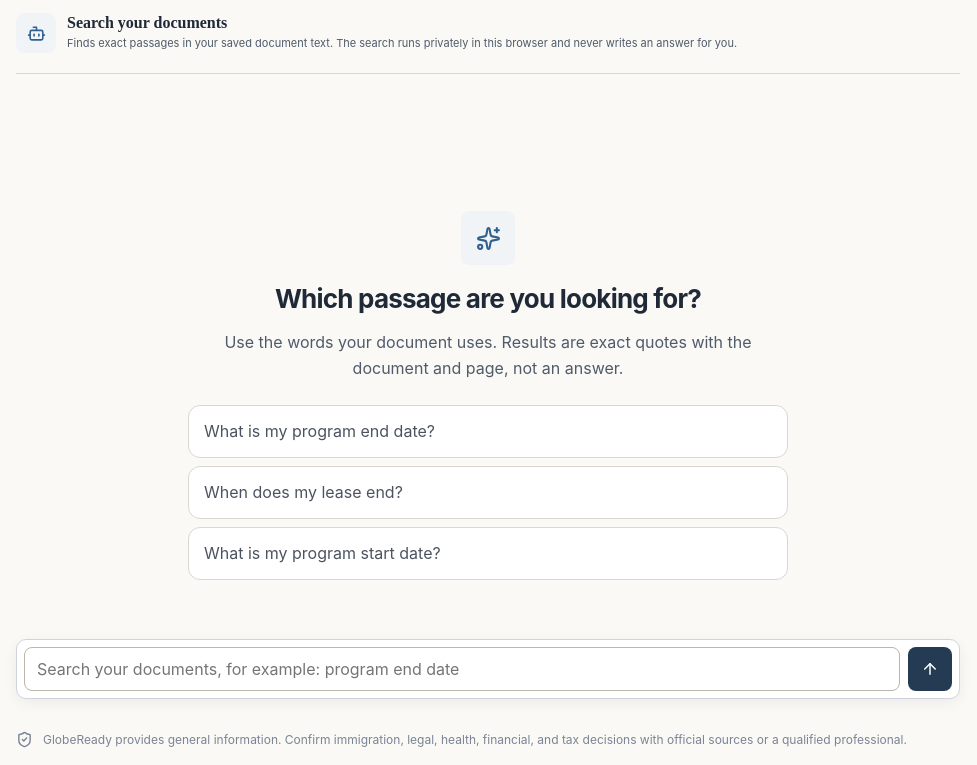
it: document-grounded assistant › shows the official-contact referral with passages for a high-risk question
Type "What is my OPT start date?" into the field named "Ask GlobeReady" at (462, 669), box [24, 647, 900, 691]
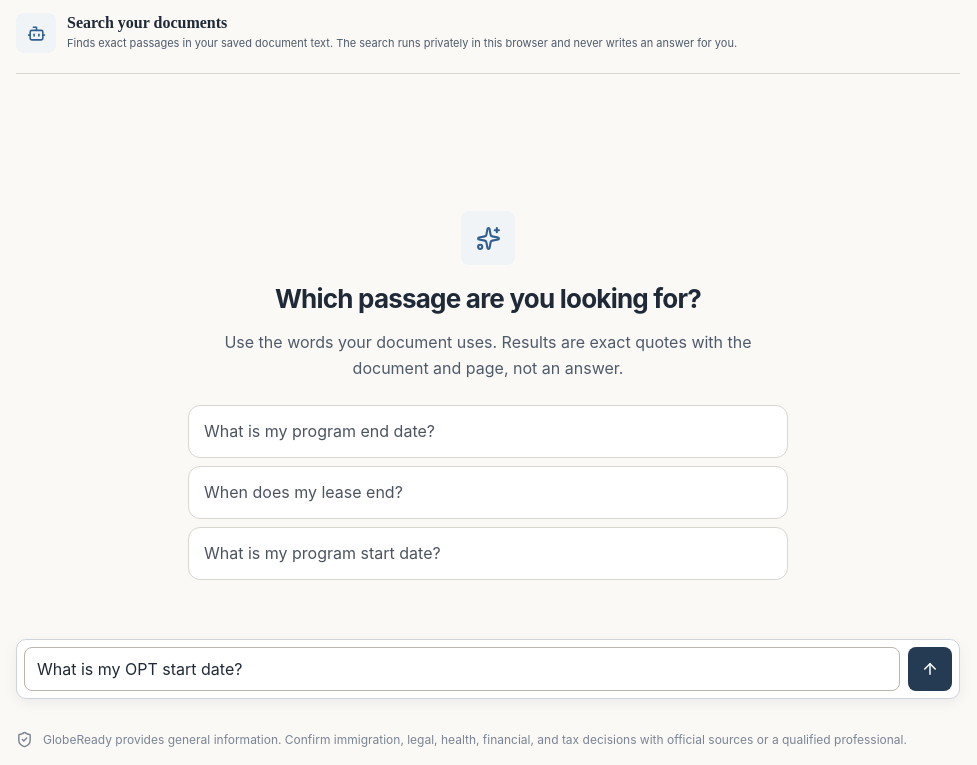
Click the button named "Send question" at (930, 669), box [908, 647, 952, 691]
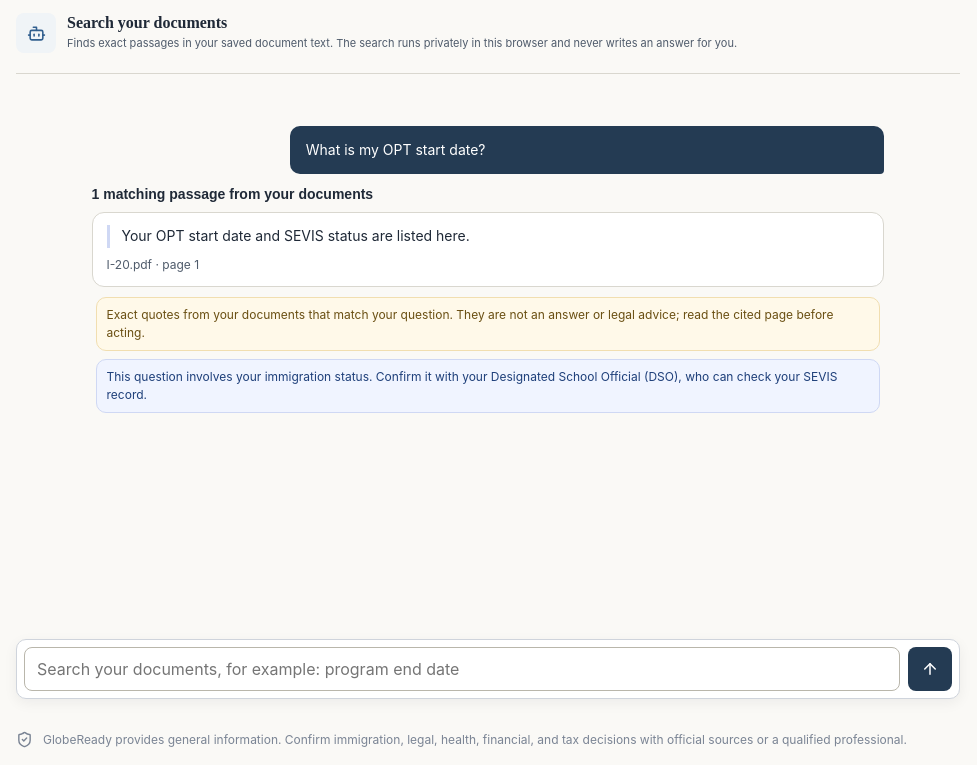
Expected: the text "Designated School Official" is shown, [106, 369, 837, 402]
